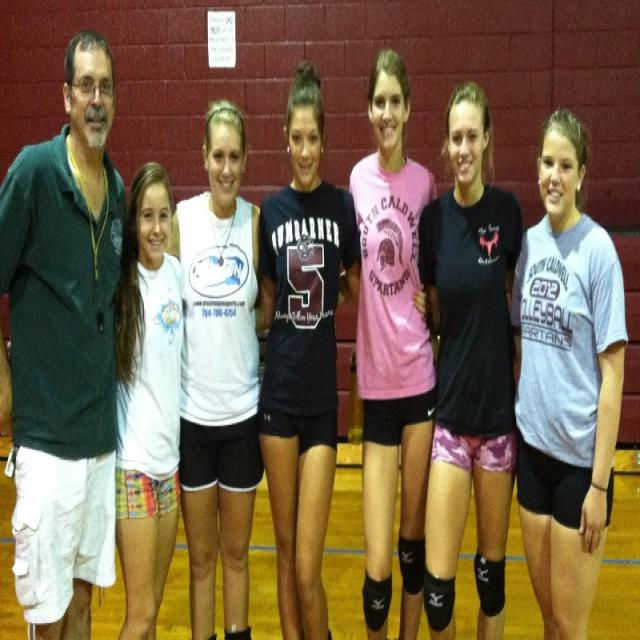body: (252, 59, 428, 639), (0, 22, 132, 638), (506, 100, 634, 638), (416, 71, 530, 638), (334, 46, 440, 640), (168, 96, 261, 638), (110, 151, 187, 638)
